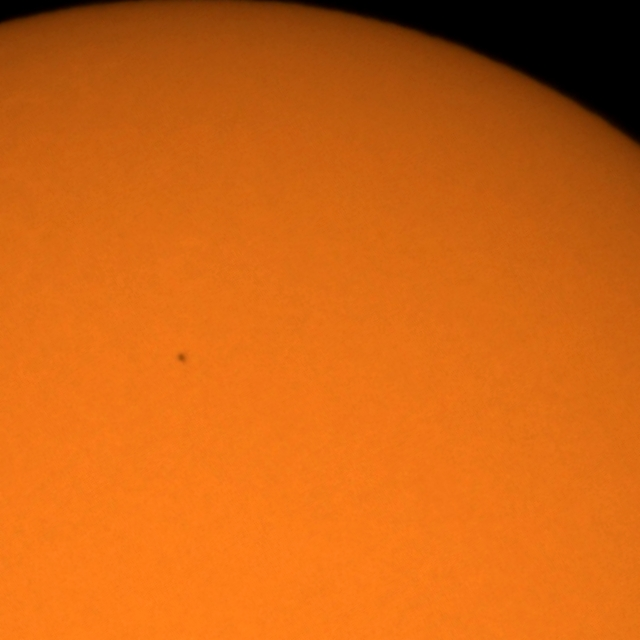sunspot: (175, 350, 190, 366)
